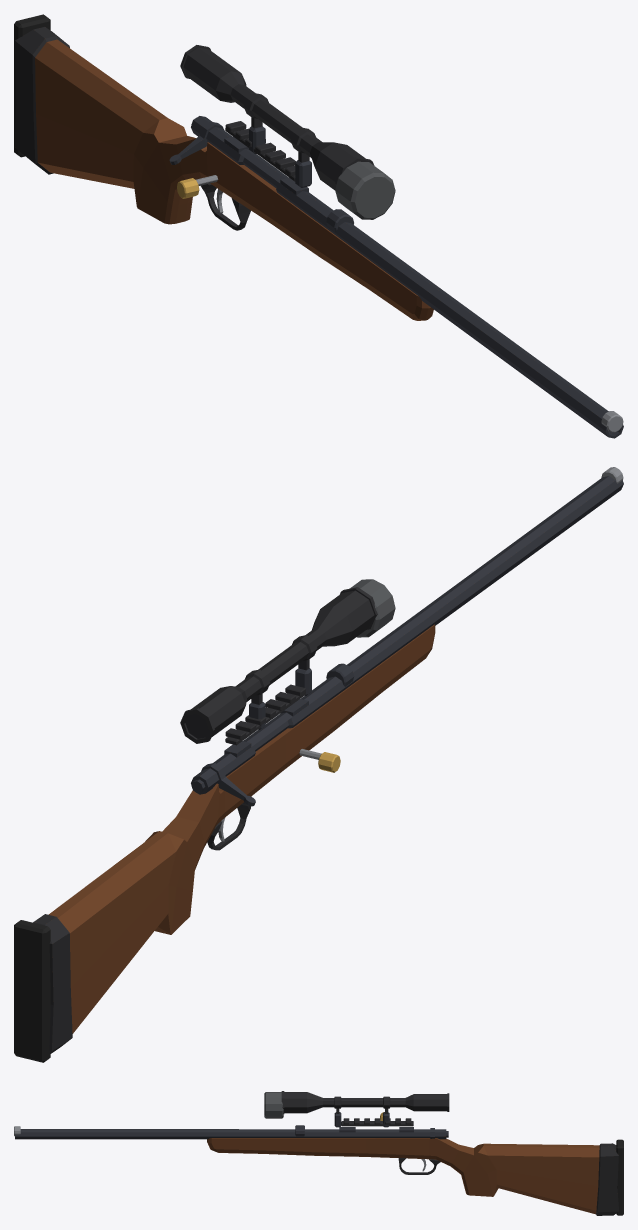
File: hunting_rifle.glb
The picture shows the model from 3 angles, top to bottom: view 1: azimuth 30°, elevation 25°; view 2: azimuth 150°, elevation 25°; view 3: azimuth 270°, elevation 25°; orthographic projection. The views are drawn at different scales.
Parts seen in each view (by area): view 1: hunting_rifle; view 2: hunting_rifle; view 3: hunting_rifle.
Part boxes in pixels (x1,y1,x2,y2): hunting_rifle: (14, 14, 623, 438); hunting_rifle: (14, 467, 623, 1062); hunting_rifle: (14, 1091, 623, 1215).
Size of the model in its own units: 0.1027 by 0.2315 by 1.04.
